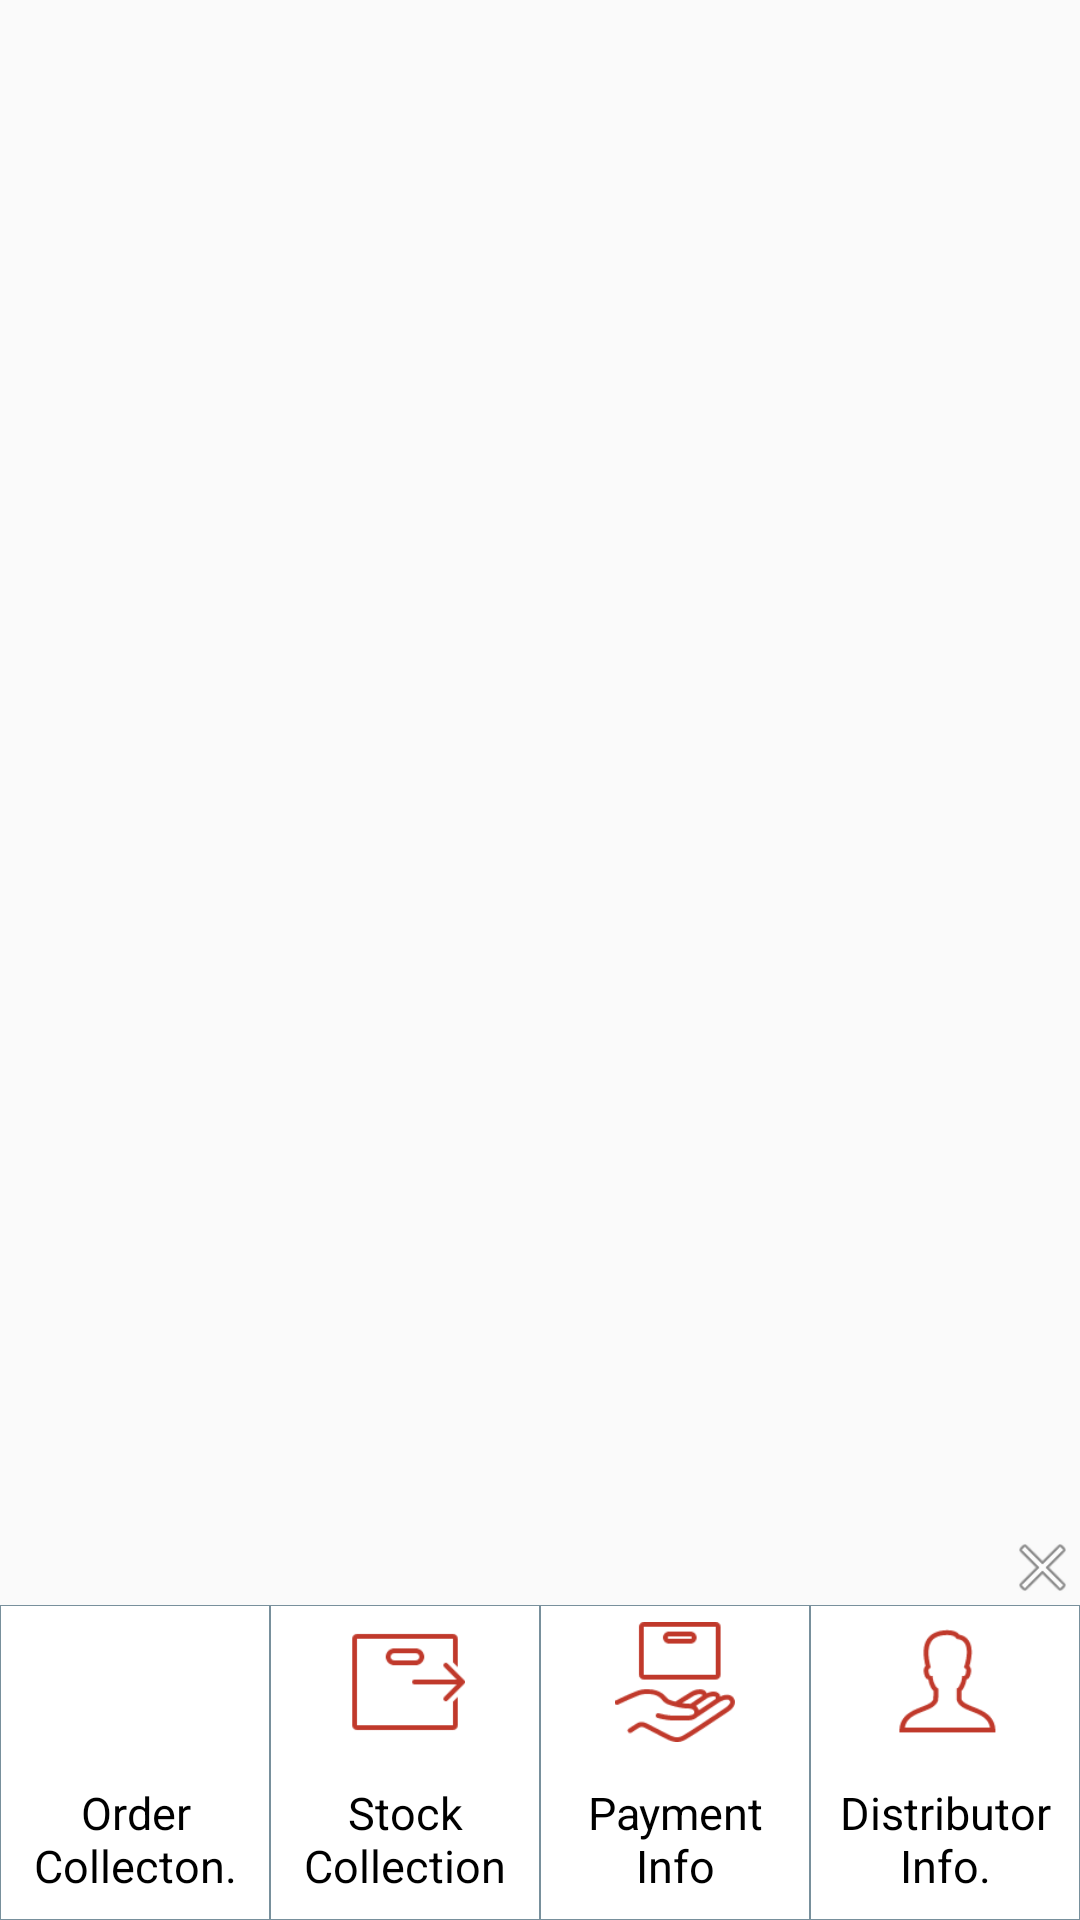

Locate icon controls on the screen. Image size 1080 × 1920, boxes as (x1, y1, x2, y2).
close clear cancel: (1019, 1544, 1066, 1591)
contactd: (899, 1629, 996, 1733)
stockq: (352, 1634, 465, 1730)
